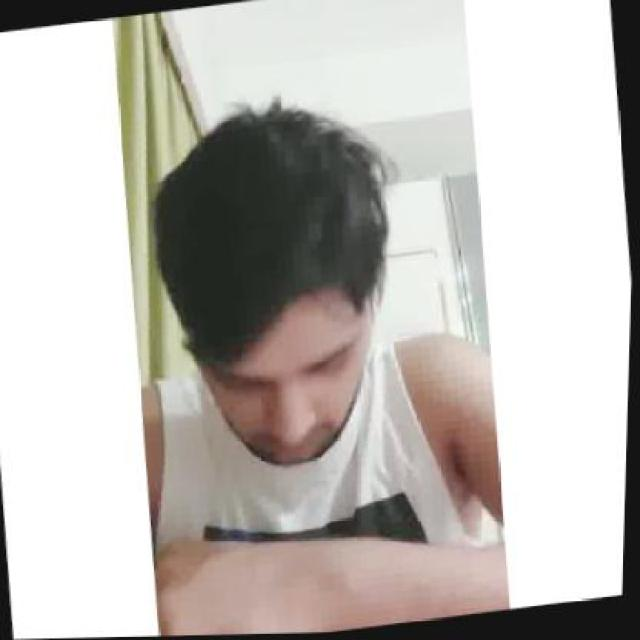inattentif: (144, 96, 398, 482)
